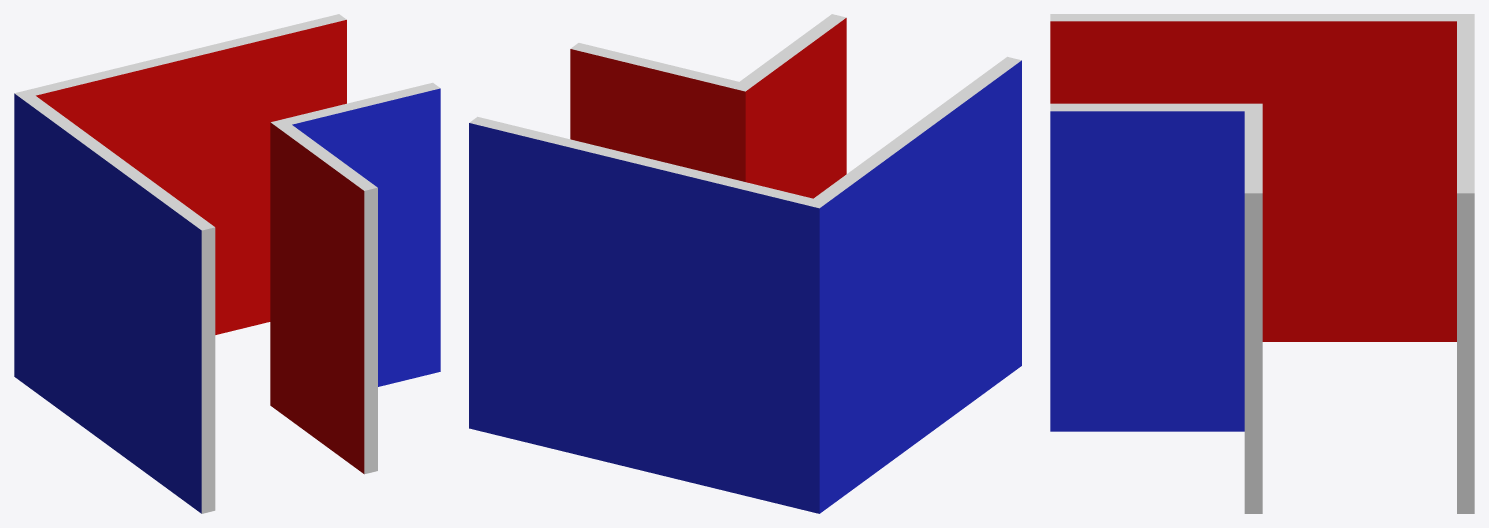
The model's file is Mesh_wall_double-corner.fbx.
3 views of the same model, side by side, from view 1: azimuth 30°, elevation 25°; view 2: azimuth 150°, elevation 25°; view 3: azimuth 270°, elevation 25° (orthographic). The views are drawn at different scales.
Visible parts, largest first — view 1: mesh_wall_corner.001; view 2: mesh_wall_corner.001; view 3: mesh_wall_corner.001.
Boxes of the visible parts, box(x1,y1,x2,y2) form: mesh_wall_corner.001: box(14, 14, 440, 513); mesh_wall_corner.001: box(469, 14, 1021, 513); mesh_wall_corner.001: box(1050, 14, 1474, 513).
Bounding box in the file's own units: 3.9 × 3.25 × 3.9.
